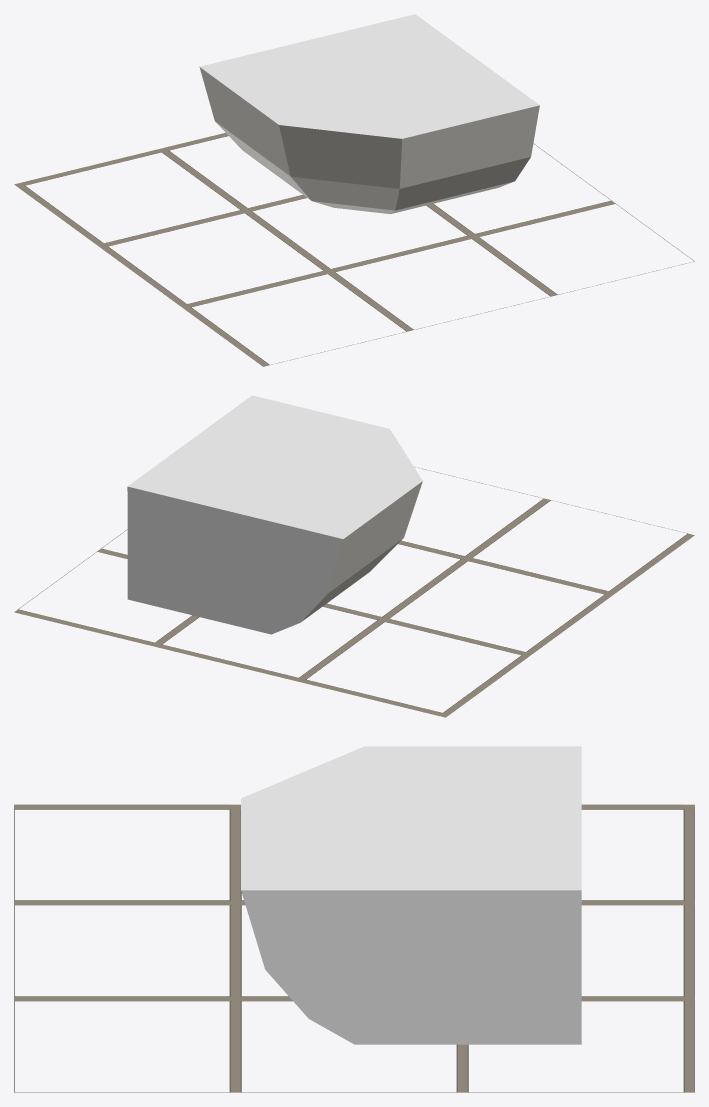
File: Basic_Curve_Outer_2x2_Narrow_Under.glb
3 renders of one model, top to bottom at view 1: azimuth 30°, elevation 25°; view 2: azimuth 150°, elevation 25°; view 3: azimuth 270°, elevation 25°, orthographic. The views are drawn at different scales.
Visible parts, largest first — view 1: Basic_Curve_Outer_2x2_Narrow_Under, Floor; view 2: Basic_Curve_Outer_2x2_Narrow_Under, Floor; view 3: Basic_Curve_Outer_2x2_Narrow_Under, Floor.
Boxes of the visible parts, x1,y1,x2,y2 form: Basic_Curve_Outer_2x2_Narrow_Under: [199, 14, 539, 214]; Floor: [14, 132, 694, 366]; Basic_Curve_Outer_2x2_Narrow_Under: [127, 395, 422, 634]; Floor: [14, 466, 694, 717]; Basic_Curve_Outer_2x2_Narrow_Under: [241, 746, 581, 1044]; Floor: [14, 804, 694, 1092].
Size of the model in its own units: 300 by 75 by 300.
3 materials, 1 textured.
